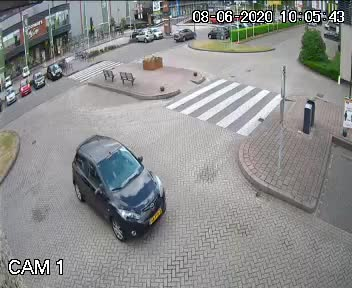car: (66, 129, 172, 255), (169, 27, 196, 42)
